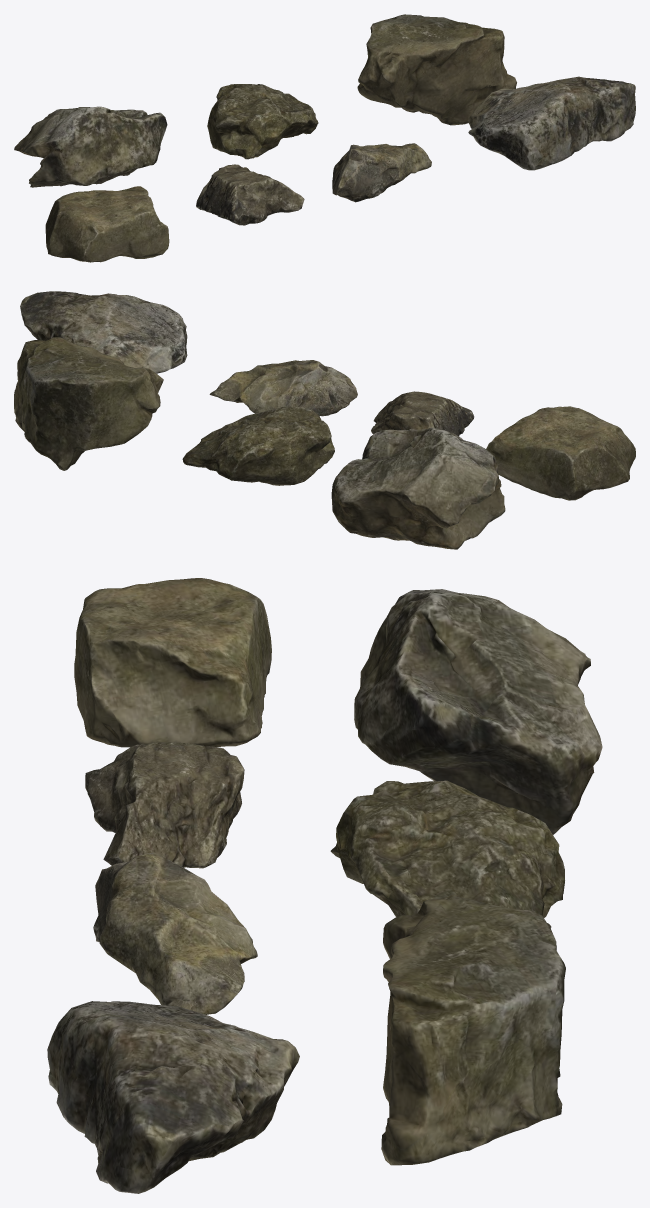
File: rock_moss_set_02.gltf
3 renders of one model, top to bottom at view 1: azimuth 30°, elevation 25°; view 2: azimuth 150°, elevation 25°; view 3: azimuth 270°, elevation 25°, orthographic. The views are drawn at different scales.
Visible parts, largest first — view 1: rock_moss_set_02_rock13, rock_moss_set_02_rock10, rock_moss_set_02_rock11, rock_moss_set_02_rock07, rock_moss_set_02_rock12, rock_moss_set_02_rock08, rock_moss_set_02_rock09; view 2: rock_moss_set_02_rock11, rock_moss_set_02_rock13, rock_moss_set_02_rock07, rock_moss_set_02_rock10, rock_moss_set_02_rock12, rock_moss_set_02_rock09, rock_moss_set_02_rock08; view 3: rock_moss_set_02_rock13, rock_moss_set_02_rock11, rock_moss_set_02_rock10, rock_moss_set_02_rock07, rock_moss_set_02_rock12, rock_moss_set_02_rock09, rock_moss_set_02_rock08.
Boxes of the visible parts, x1,y1,x2,y2 form: rock_moss_set_02_rock13: (357, 14, 516, 125); rock_moss_set_02_rock10: (468, 76, 635, 170); rock_moss_set_02_rock11: (14, 106, 167, 187); rock_moss_set_02_rock07: (45, 186, 169, 262); rock_moss_set_02_rock12: (207, 84, 318, 159); rock_moss_set_02_rock08: (196, 164, 304, 225); rock_moss_set_02_rock09: (332, 143, 431, 202); rock_moss_set_02_rock11: (331, 427, 505, 549); rock_moss_set_02_rock13: (14, 337, 163, 470); rock_moss_set_02_rock07: (486, 406, 635, 500); rock_moss_set_02_rock10: (20, 291, 187, 373); rock_moss_set_02_rock12: (182, 407, 334, 485); rock_moss_set_02_rock09: (209, 360, 357, 416); rock_moss_set_02_rock08: (371, 391, 474, 436); rock_moss_set_02_rock13: (381, 896, 565, 1165); rock_moss_set_02_rock11: (354, 589, 602, 834); rock_moss_set_02_rock10: (47, 1001, 299, 1193); rock_moss_set_02_rock07: (74, 578, 271, 747); rock_moss_set_02_rock12: (330, 780, 564, 928); rock_moss_set_02_rock09: (93, 852, 257, 1014); rock_moss_set_02_rock08: (85, 742, 244, 868).
Size of the model in its own units: 8.27 by 1.37 by 3.41.
Materials: 1 (1 with a texture image).
